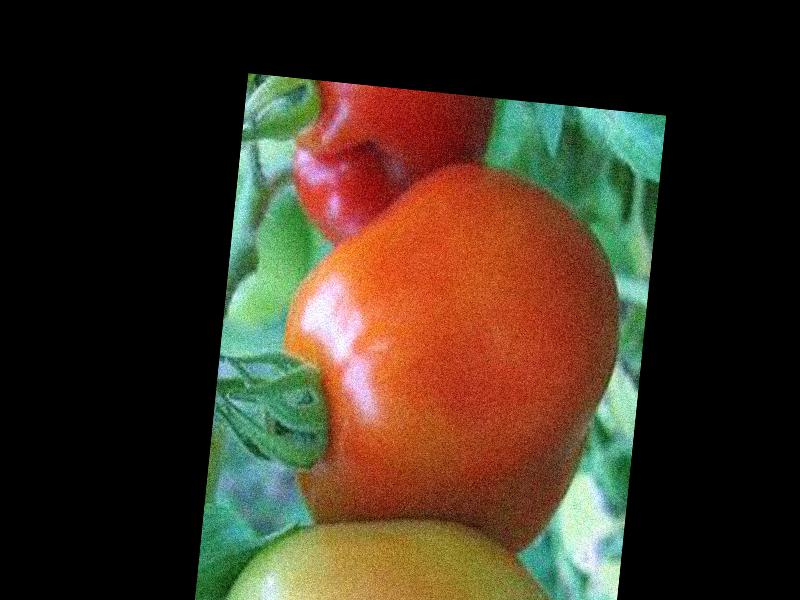Tomato: (267, 145, 634, 543)
